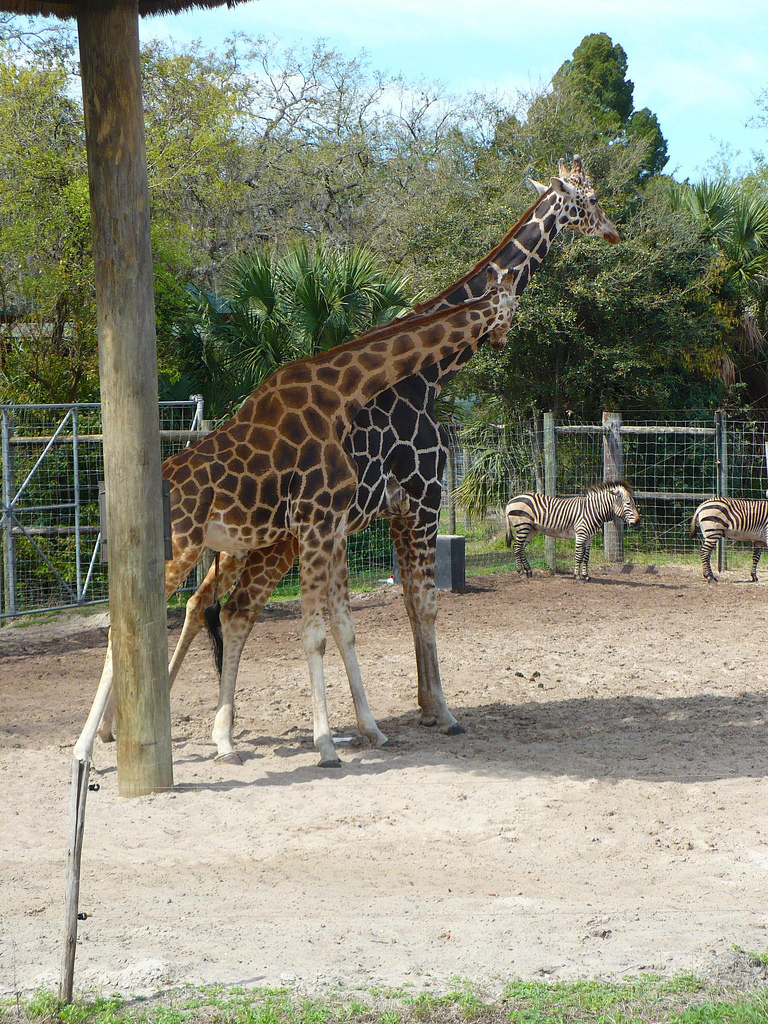giraffe: (250, 132, 633, 749), (114, 245, 563, 762)
